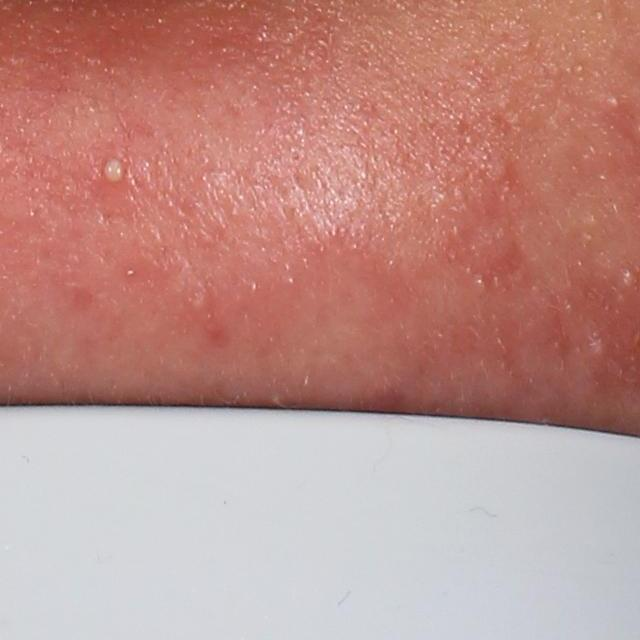pustule: (98, 157, 123, 186)
